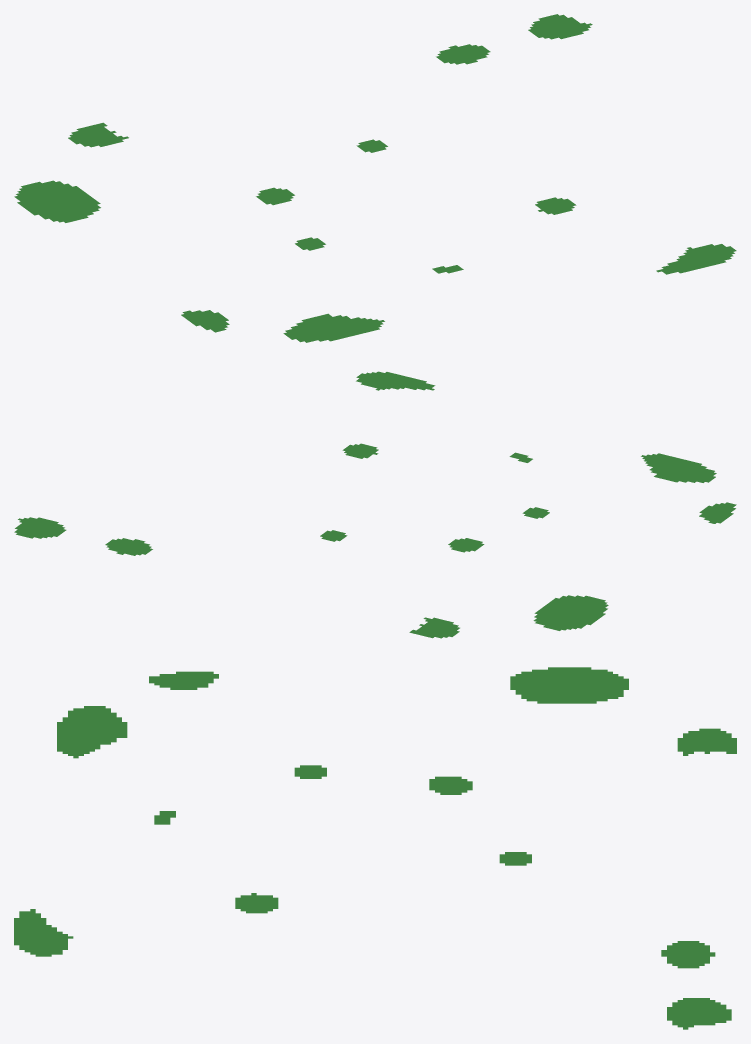
Rendered from Map-5-TreesArea.fbx.
3 views of the same model, one above another, from view 1: azimuth 30°, elevation 25°; view 2: azimuth 150°, elevation 25°; view 3: azimuth 270°, elevation 25° (orthographic). The views are drawn at different scales.
Visible parts, largest first — view 1: Map-5-TreesArea; view 2: Map-5-TreesArea; view 3: Map-5-TreesArea.
Part boxes in pixels (x1,y1,x2,y2): Map-5-TreesArea: [14, 14, 736, 342]; Map-5-TreesArea: [14, 371, 736, 638]; Map-5-TreesArea: [14, 667, 736, 1029].
Bounding box in the file's own units: 159 × 0 × 134.
